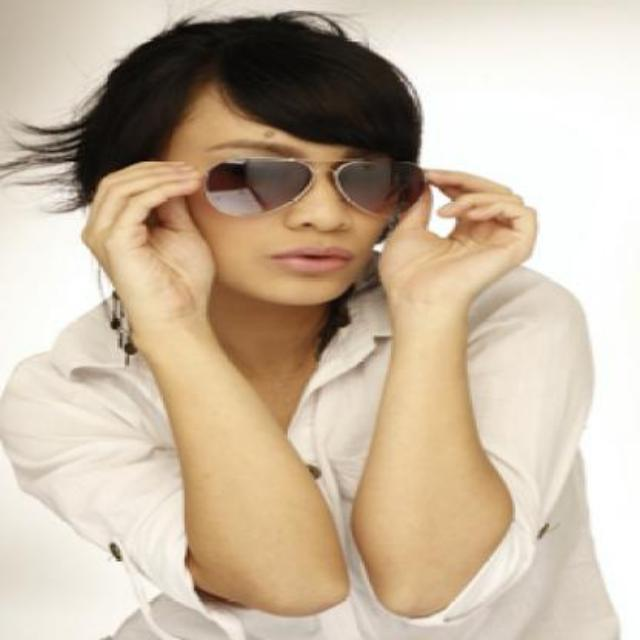glasses: (203, 154, 424, 216)
